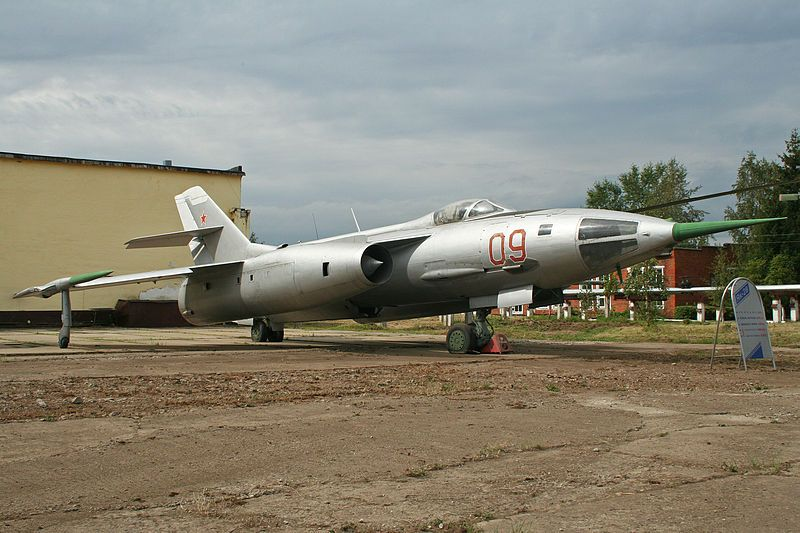Aeronef_militaire: (2, 182, 800, 358)
